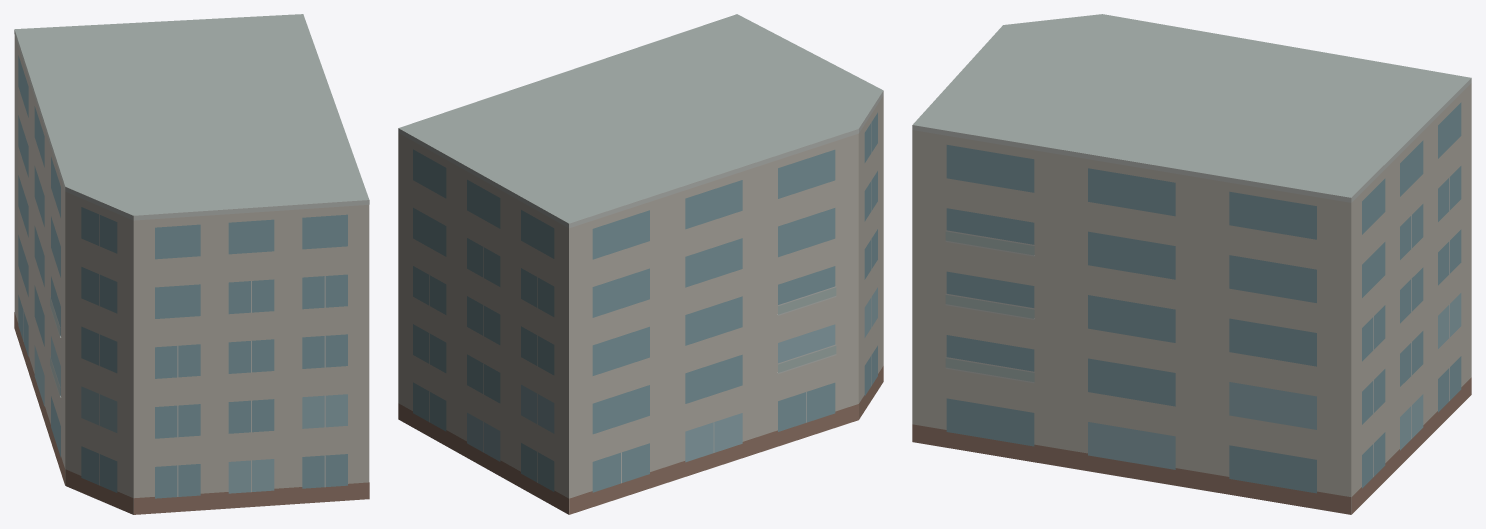
The model's file is survey-upis-33006372.glb.
The picture shows the model from 3 angles, left to right: view 1: azimuth 30°, elevation 25°; view 2: azimuth 150°, elevation 25°; view 3: azimuth 270°, elevation 25°; orthographic projection. The views are drawn at different scales.
Parts seen in each view (by area): view 1: survey-upis-33006372.tmp; view 2: survey-upis-33006372.tmp; view 3: survey-upis-33006372.tmp.
Part boxes in pixels (x1,y1,x2,y2): survey-upis-33006372.tmp: (14,14,369,514); survey-upis-33006372.tmp: (398,14,883,514); survey-upis-33006372.tmp: (912,14,1471,514).
Bounding box in the file's own units: 18.98 × 15.25 × 24.39.
